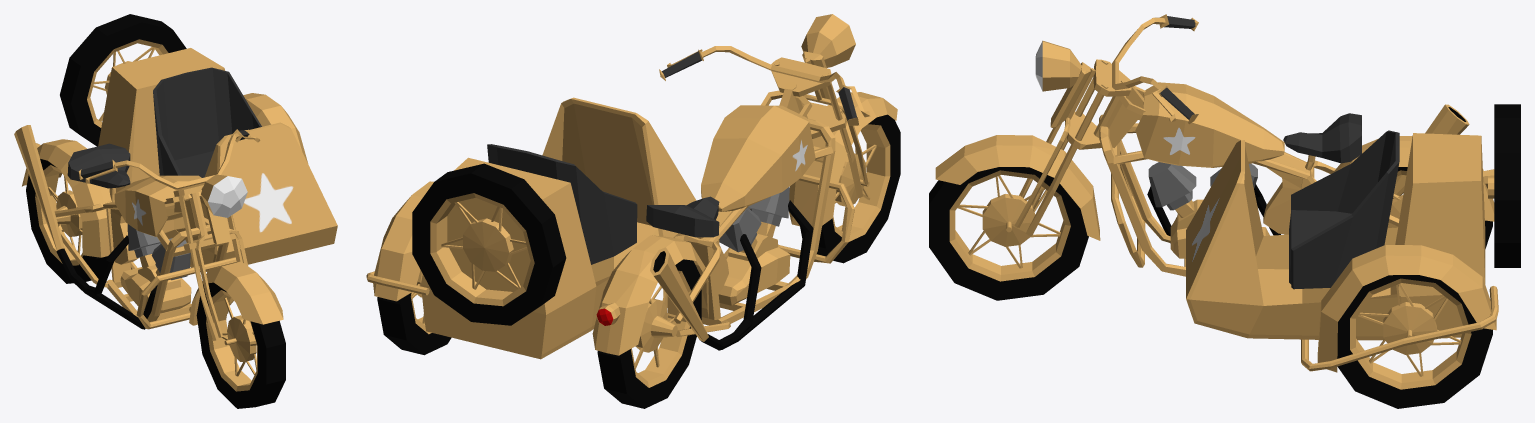
3 renders of one model, left to right at view 1: azimuth 30°, elevation 25°; view 2: azimuth 150°, elevation 25°; view 3: azimuth 270°, elevation 25°, orthographic. The views are drawn at different scales.
Parts seen in each view (by area): view 1: Plane.006, Plane.007, Cylinder.006, Cylinder.007; view 2: Plane.006, Plane.007, Cylinder.007, Cylinder.006, Cylinder.003; view 3: Plane.006, Plane.007, Cylinder.006, Cylinder.003.
Part boxes in pixels (bbox=[...]): Plane.006: bbox=[14, 14, 337, 329]; Plane.007: bbox=[78, 129, 283, 340]; Cylinder.006: bbox=[196, 282, 285, 408]; Cylinder.007: bbox=[26, 159, 107, 283]; Plane.006: bbox=[366, 81, 854, 359]; Plane.007: bbox=[659, 14, 897, 226]; Cylinder.007: bbox=[597, 259, 701, 408]; Cylinder.006: bbox=[800, 114, 900, 263]; Cylinder.003: bbox=[377, 270, 451, 355]; Plane.006: bbox=[1093, 79, 1520, 372]; Plane.007: bbox=[935, 14, 1198, 240]; Cylinder.006: bbox=[929, 167, 1088, 300]; Cylinder.003: bbox=[1337, 275, 1492, 408].
Size of the model in its own units: 152 by 105 by 222.
